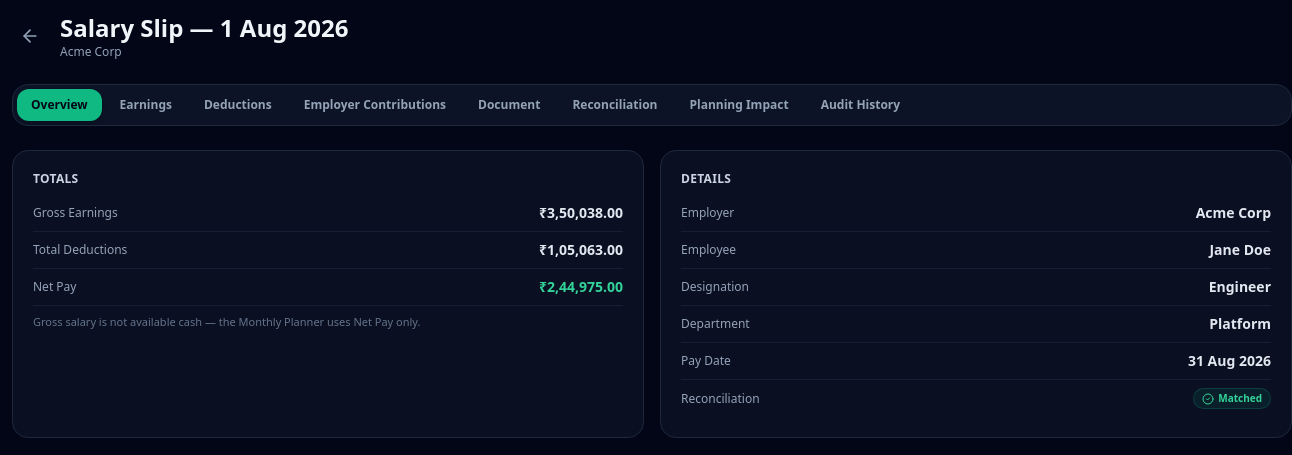
Scenario: SalarySlipDetail › Reconciliation tab › shows the actual matched transaction (not a candidate list) once reconciliationStatus is MATCHED
Click the tab "Reconciliation" at (615, 105), box 558,89 -> 672,121
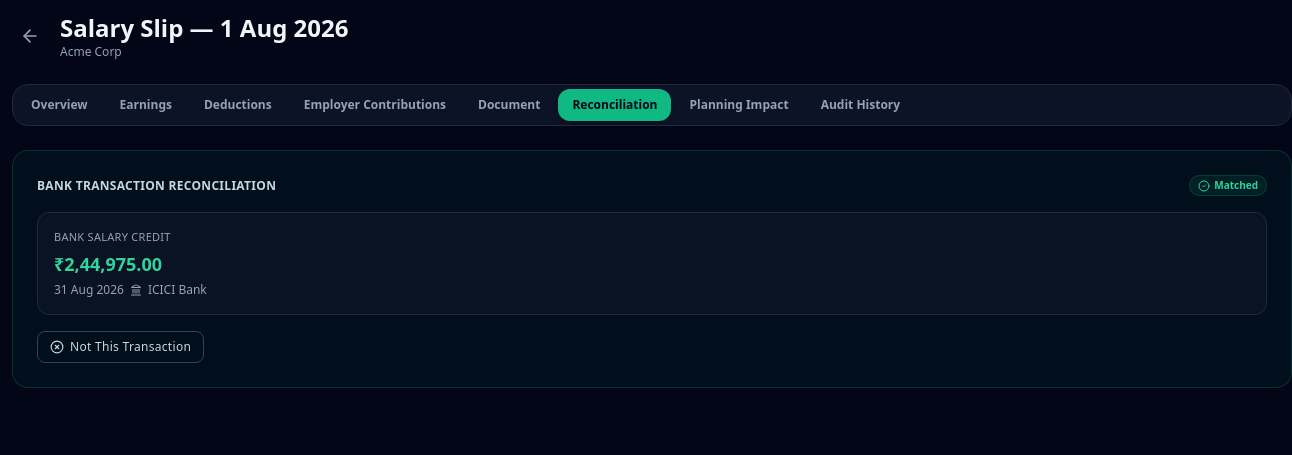
Check: the text "Bank Salary Credit" is shown, box 54,229 -> 171,244
Check: the text "ICICI Bank" is shown, box 148,282 -> 207,298
Check: the button "Not This Transaction" is shown, box 37,330 -> 204,362
